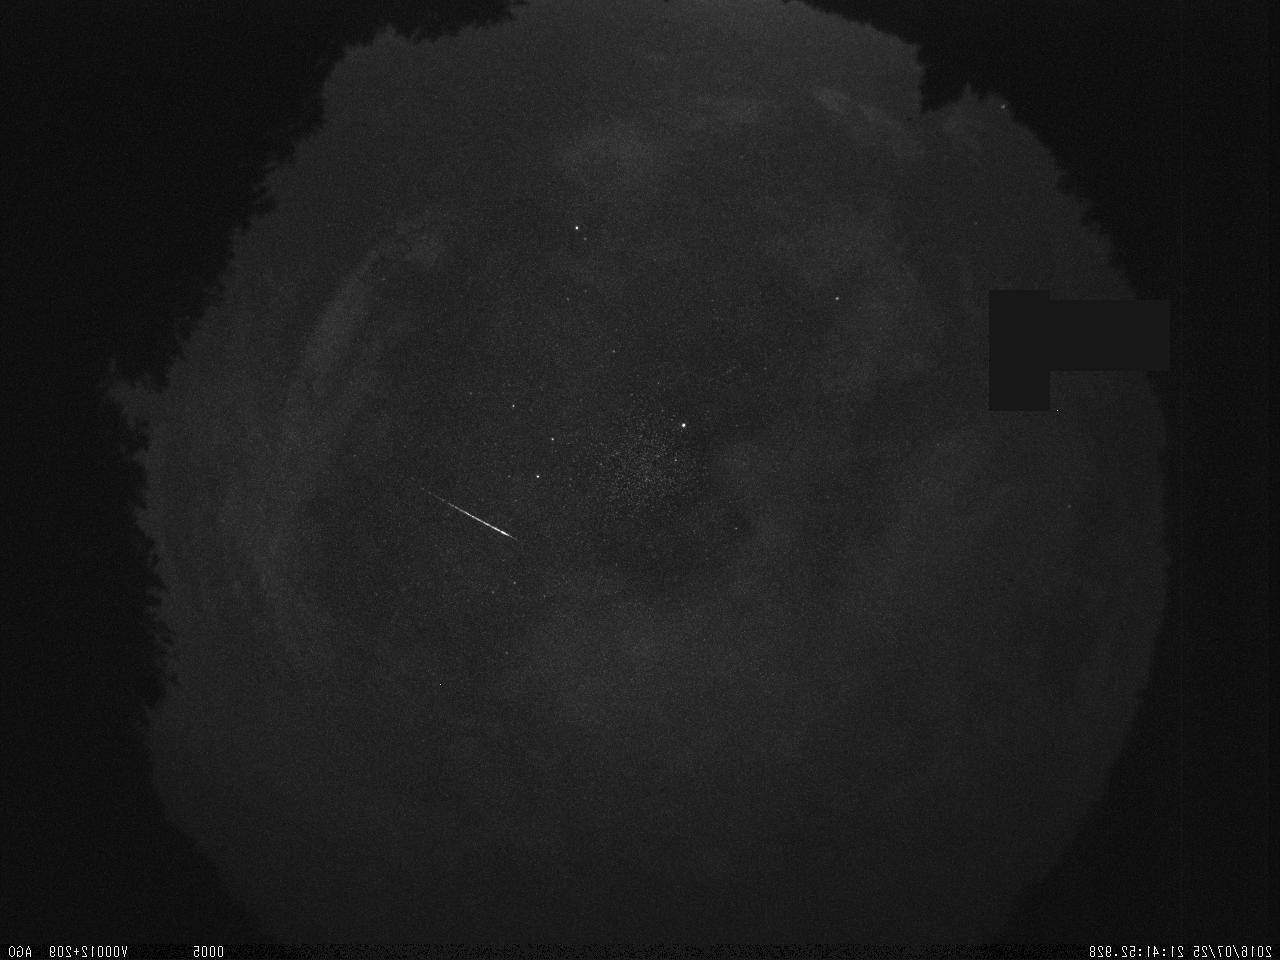meteor: (398, 475, 525, 549)
